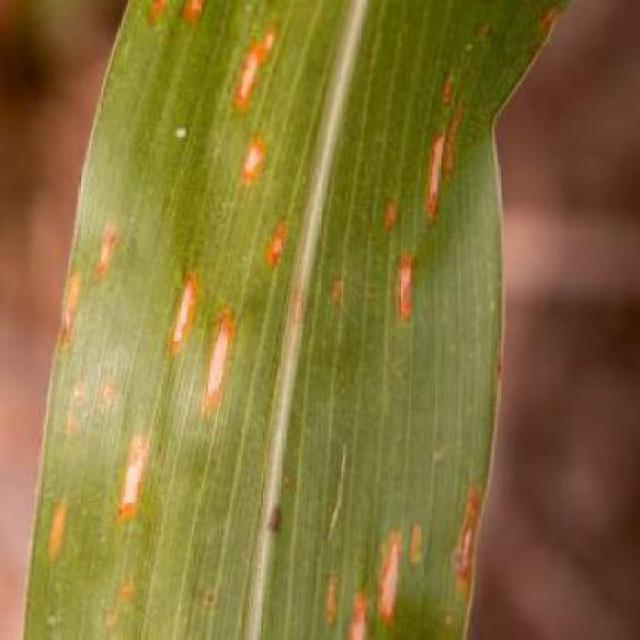Corn_Grey_Leaf_Spot: (55, 0, 534, 640)
